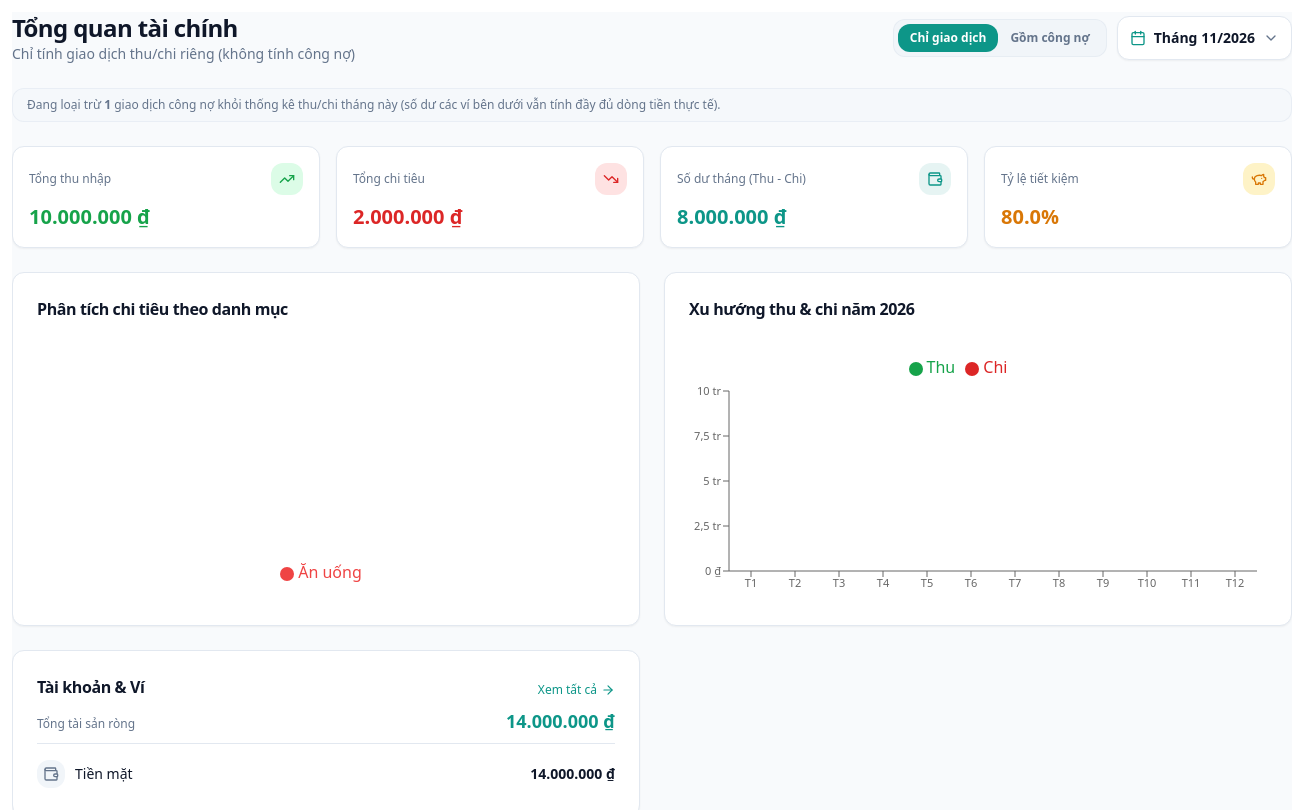
DashboardPage debt separation tests › mặc định chỉ tính giao dịch thu/chi riêng (không tính công nợ) và vẫn giữ đúng số dư ví thực tế
This screenshot has width=1304, height=810.
Check: the text "10.000.000 ₫" is shown, box [29,203,150,230]
Check: the text "8.000.000 ₫" is shown, box [677,203,787,230]
Step 1. Click the button "Gồm công nợ" → (1050, 38), box [998,24,1102,52]
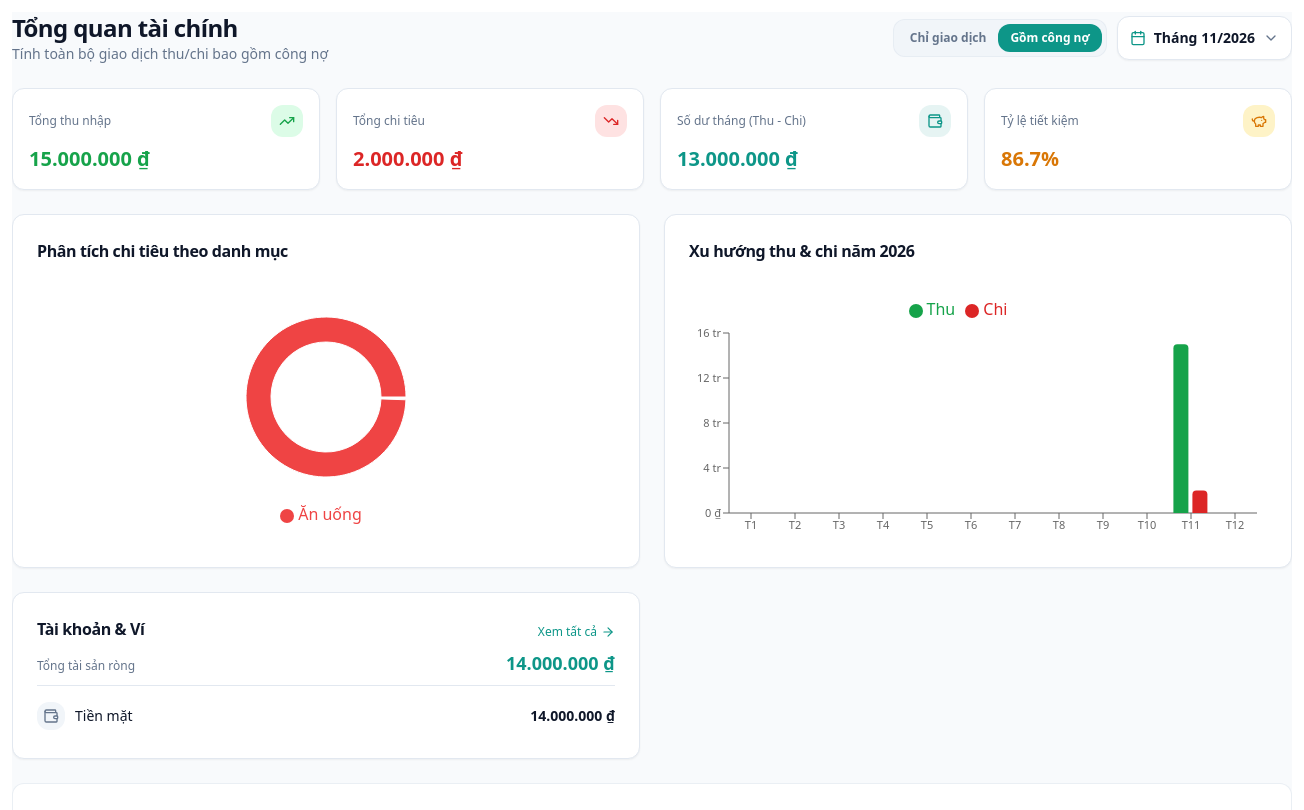
Check: the text "15.000.000 ₫" is shown, box [29,145,150,172]
